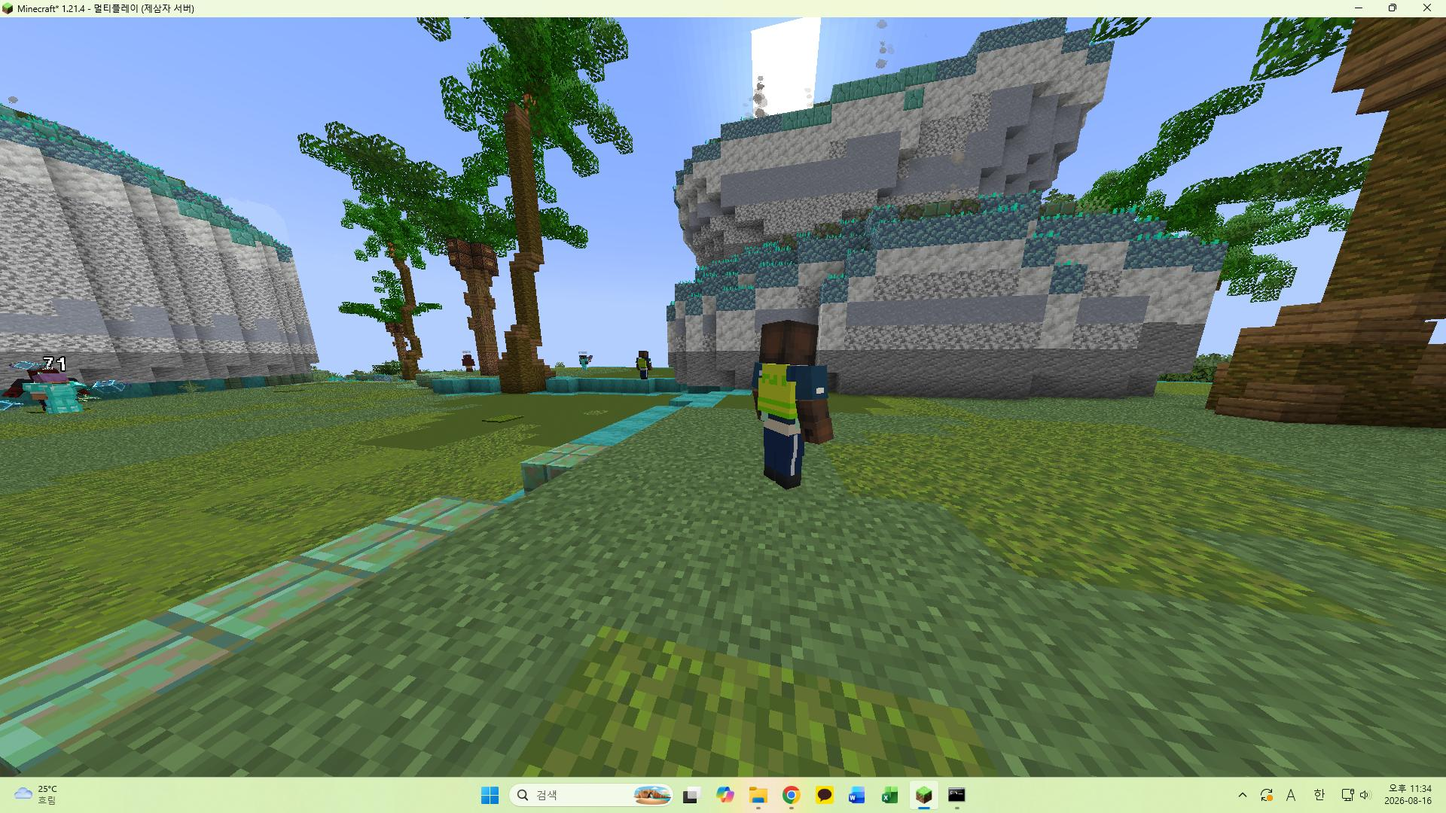Guardian: (752, 321, 832, 489), (635, 350, 652, 382)
